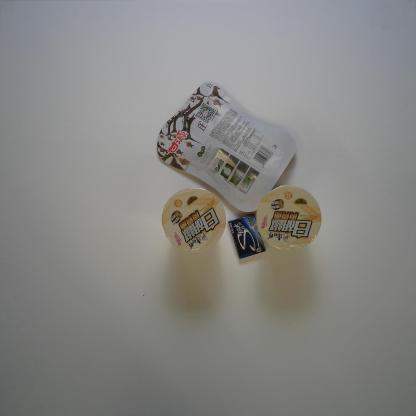Dried Fruit: (156, 79, 298, 215)
Gum: (227, 212, 267, 260)
Instant Noodles: (255, 184, 322, 252), (160, 187, 228, 253)
